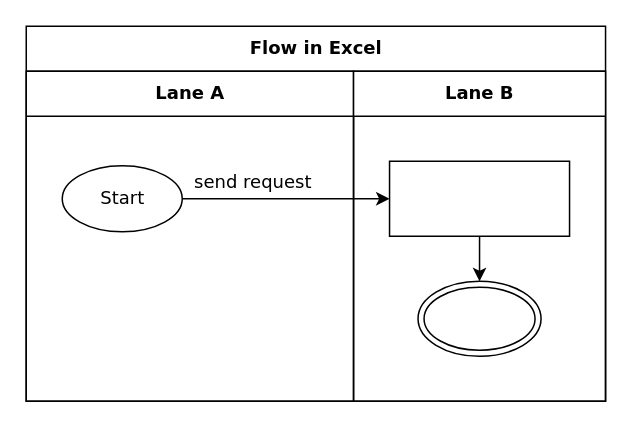
This 633x428 diagram has some shape labels left out. The shapes that lost their labels are listed below. From the top down, each one's centre as x and y in pixels, then its label:
At [479,198]: "Process".
At [479,318]: "Done".
